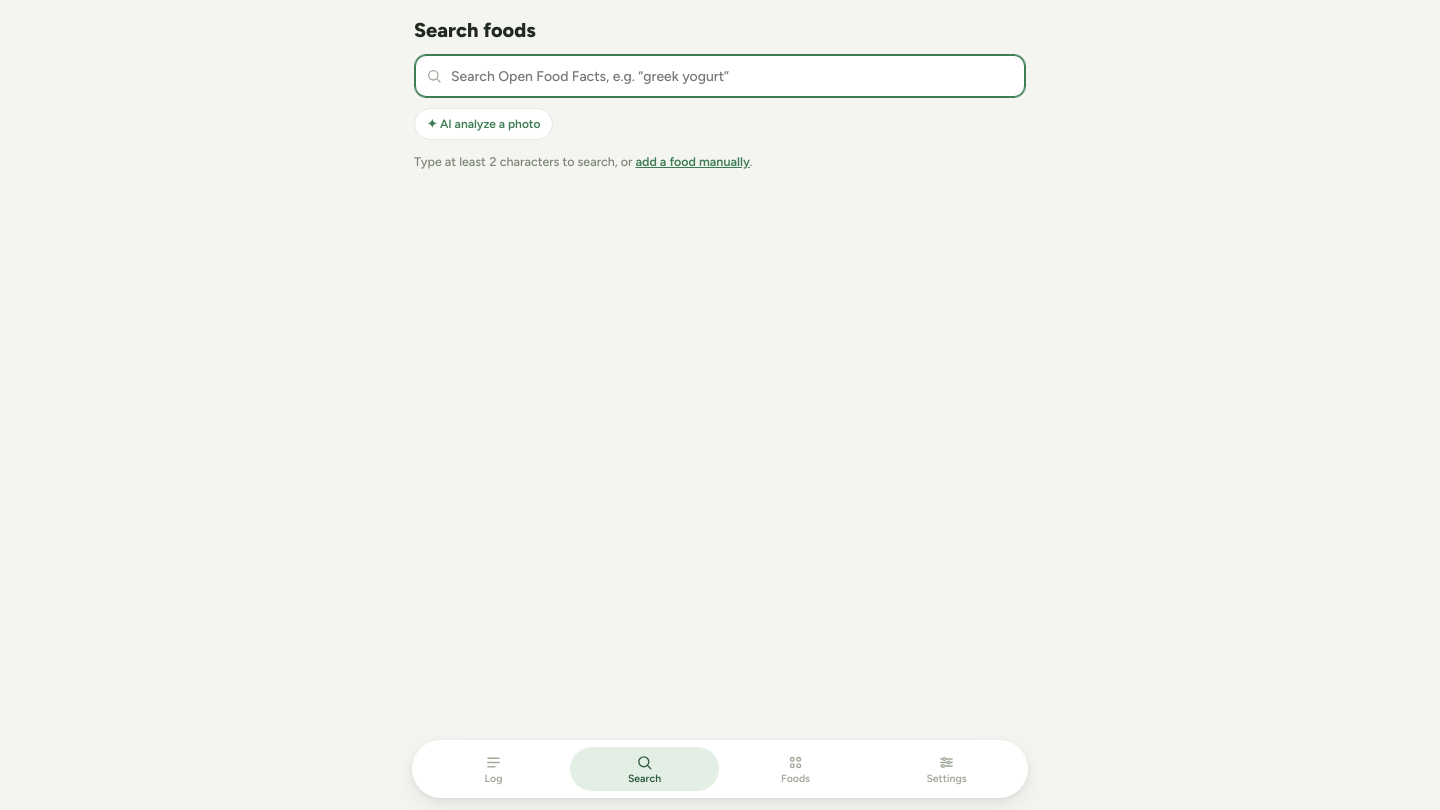
it: Search escalation round trip › standalone search still hands off with the time-of-day default meal
Type "granola" into the search field with placeholder "Search Open Food Facts, e.g. “greek yogurt”". click: (720, 76)
box: [414,54,1026,98]
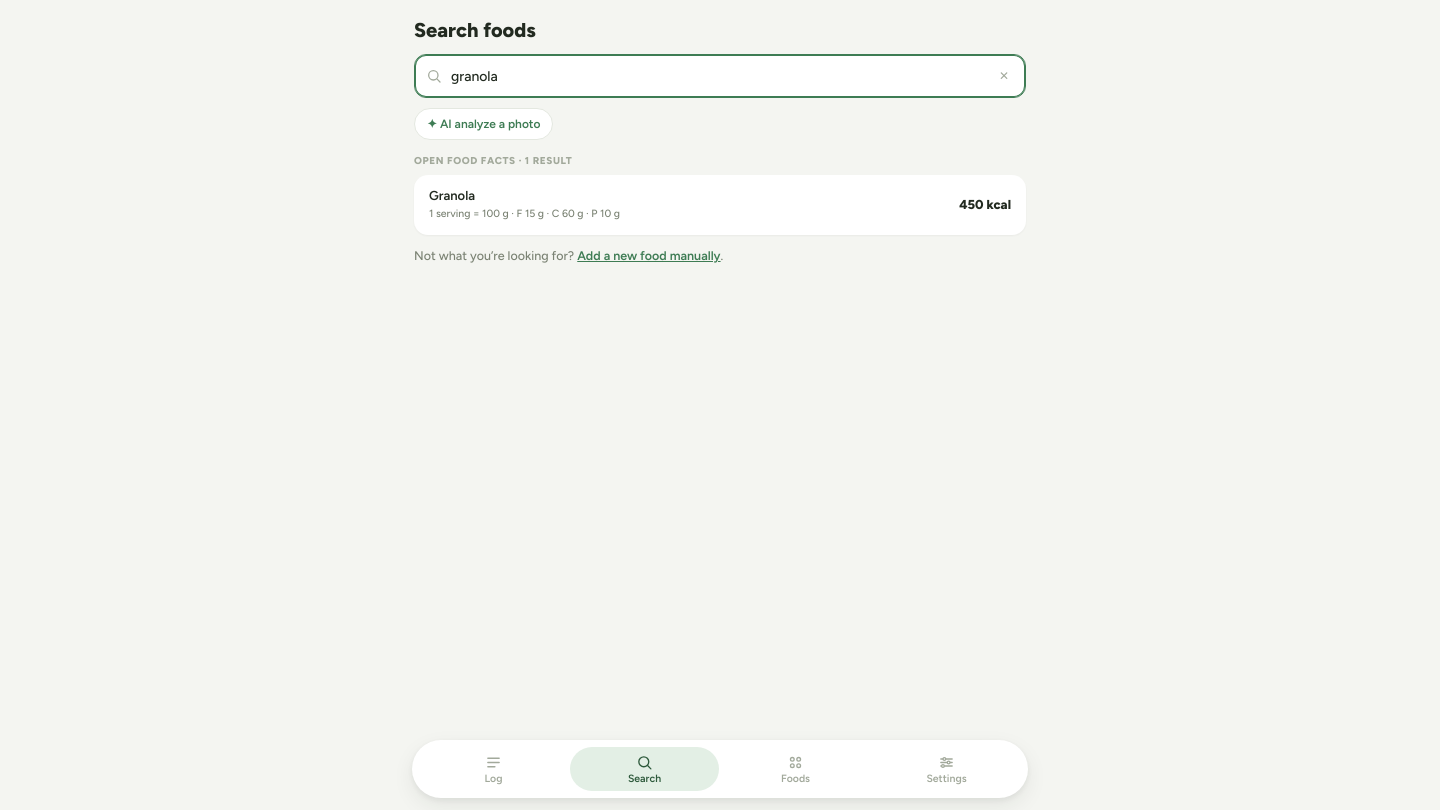
Click the button "Granola". click: click(452, 196)
box: [414,175,1026,235]
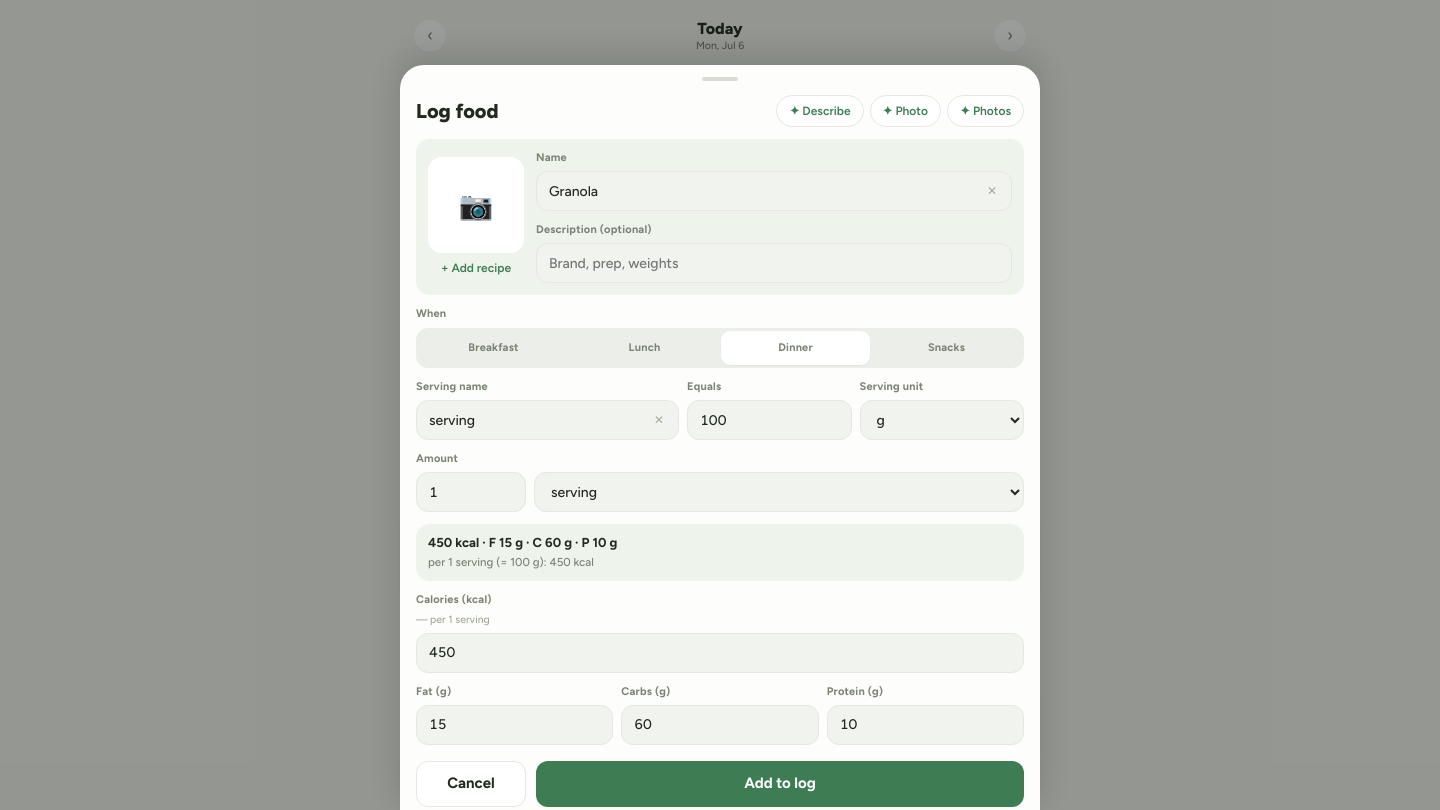
Expected: the dropdown labelled "Name" holds "Granola", [536,171,1012,211]
Expected: the radio button labelled "Dinner" is checked, [721,331,870,365]
